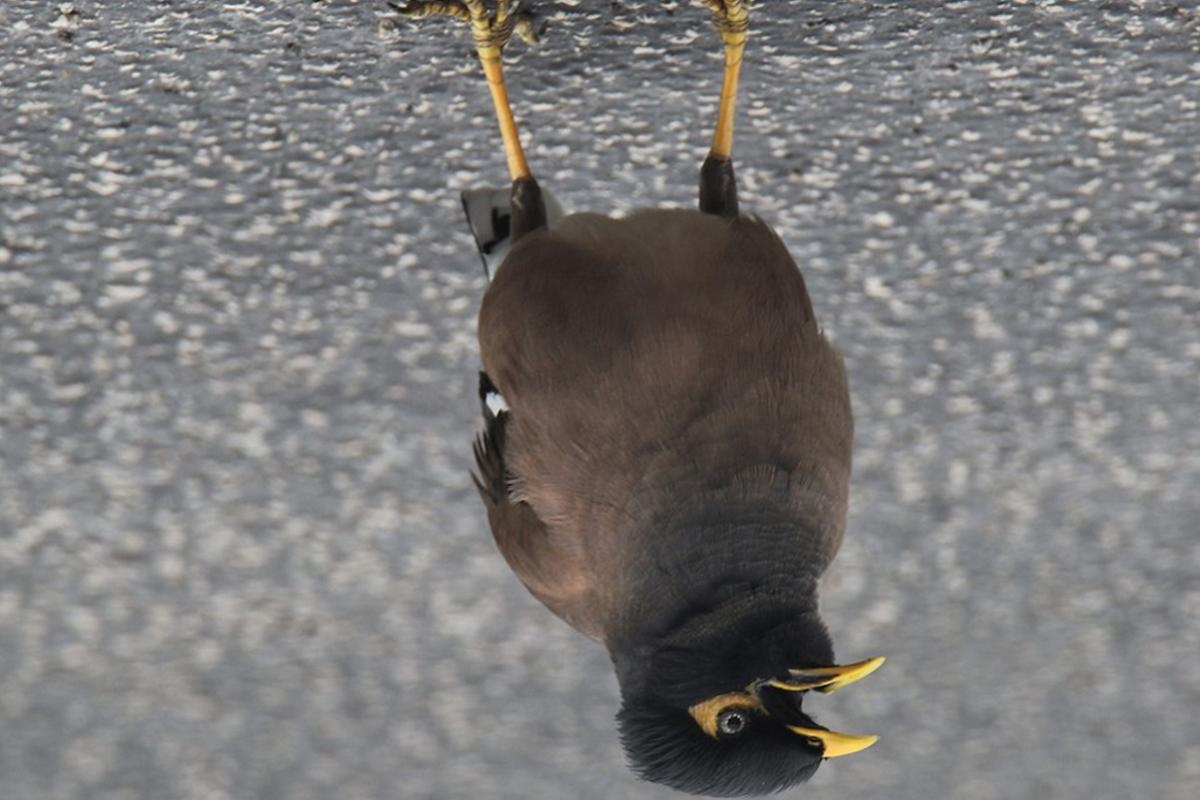myna: (403, 32, 910, 800)
